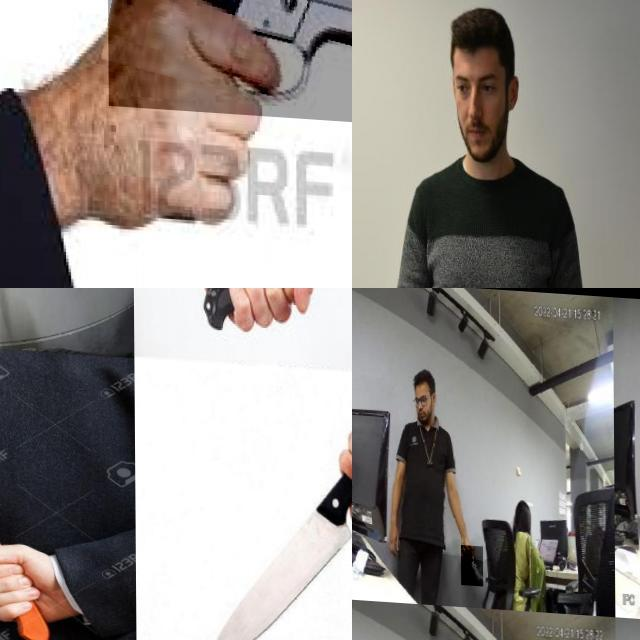-: (200, 418, 352, 640), (0, 371, 83, 596), (242, 288, 352, 361), (0, 288, 27, 381), (461, 543, 483, 584)
gun-knife-thesis - v11 Yolov5 augmented: (107, 0, 352, 120)
